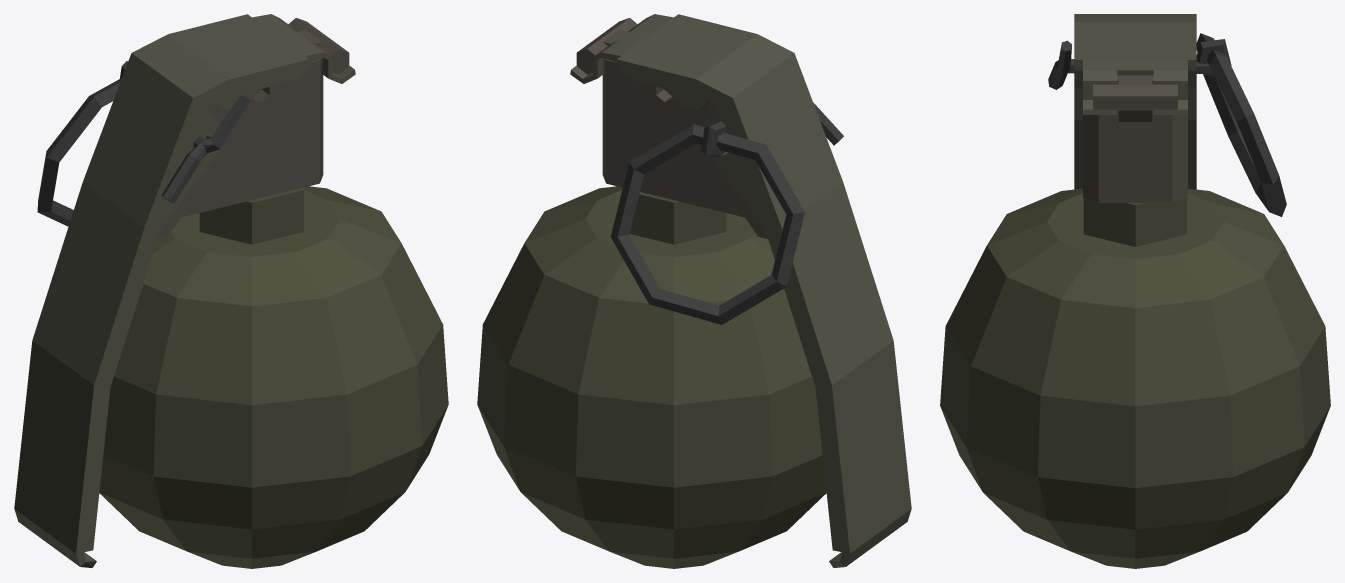
Rendered from M67_Grenade.fbx.
3 renders of one model, left to right at view 1: azimuth 30°, elevation 25°; view 2: azimuth 150°, elevation 25°; view 3: azimuth 270°, elevation 25°, orthographic.
Visible parts, largest first — view 1: M67_Body, M67_Lever, M67_Pin; view 2: M67_Body, M67_Lever, M67_Pin; view 3: M67_Body, M67_Lever, M67_Pin.
Part boxes in pixels (<box>): M67_Body: <box>99,18,448,568</box>; M67_Lever: <box>14,14,355,567</box>; M67_Pin: <box>37,61,250,226</box>; M67_Body: <box>477,18,826,568</box>; M67_Lever: <box>570,14,911,567</box>; M67_Pin: <box>610,102,843,324</box>; M67_Body: <box>940,75,1330,568</box>; M67_Lever: <box>1074,14,1196,189</box>; M67_Pin: <box>1048,33,1286,216</box>.
Size of the model in its own units: 0.0708 by 0.0898 by 0.064.
Materials: 1 (1 with a texture image).
